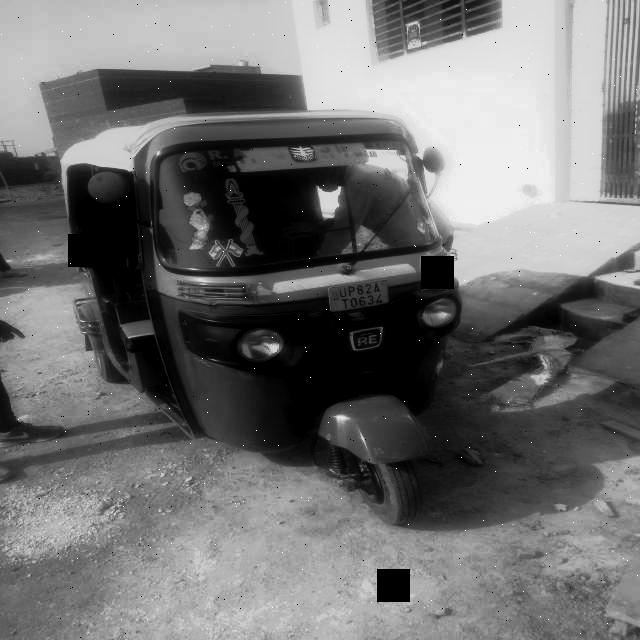Auto-Rickshaw: (44, 103, 494, 533)
